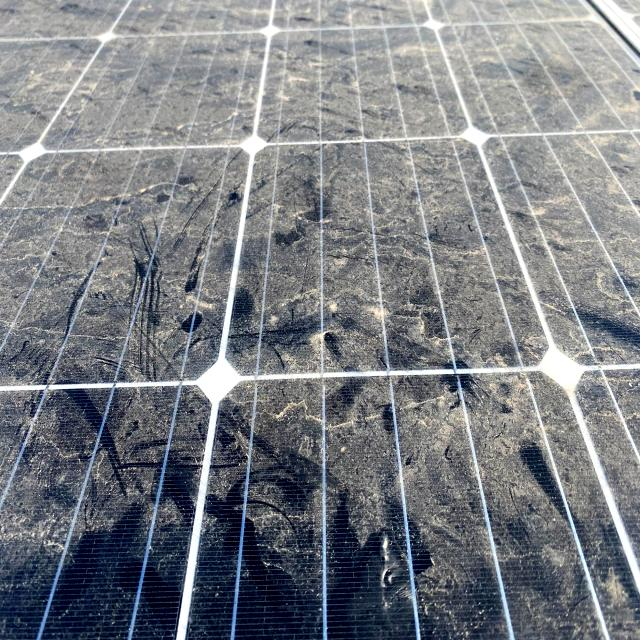dust: (228, 381, 564, 639), (238, 136, 476, 394), (0, 144, 218, 380), (7, 392, 175, 636), (262, 31, 430, 148), (78, 30, 226, 154), (546, 133, 638, 331), (482, 28, 614, 138), (578, 358, 628, 614), (13, 0, 573, 19), (2, 28, 50, 154)
